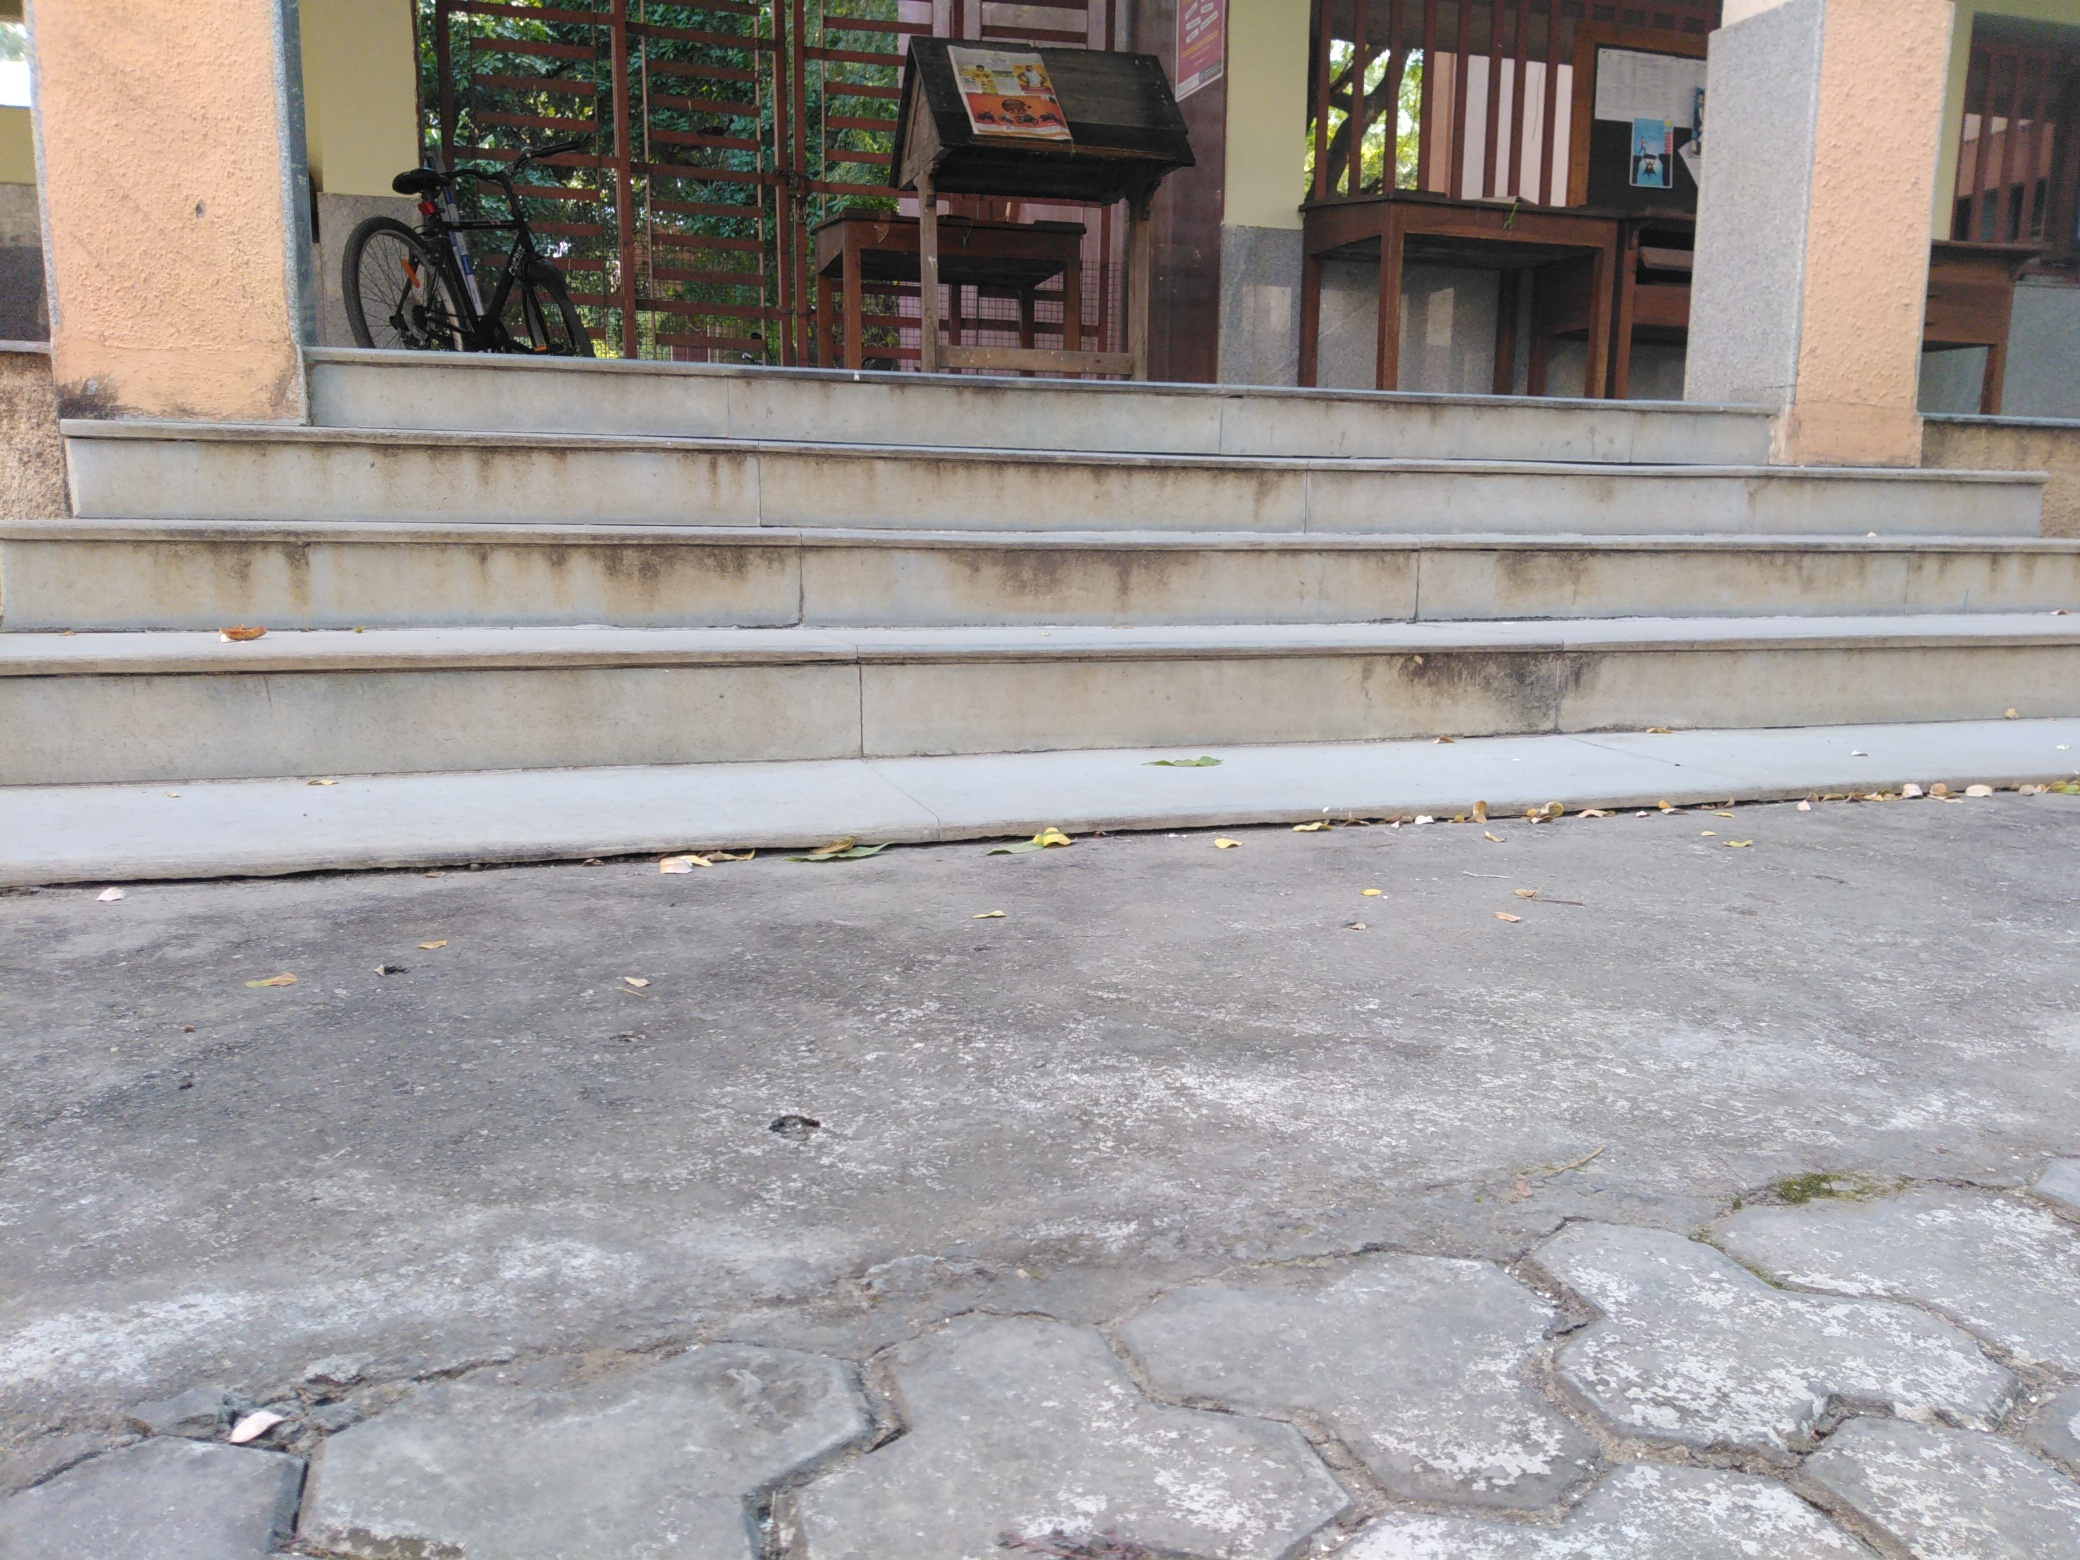stairs_up: (26, 321, 2080, 751)
